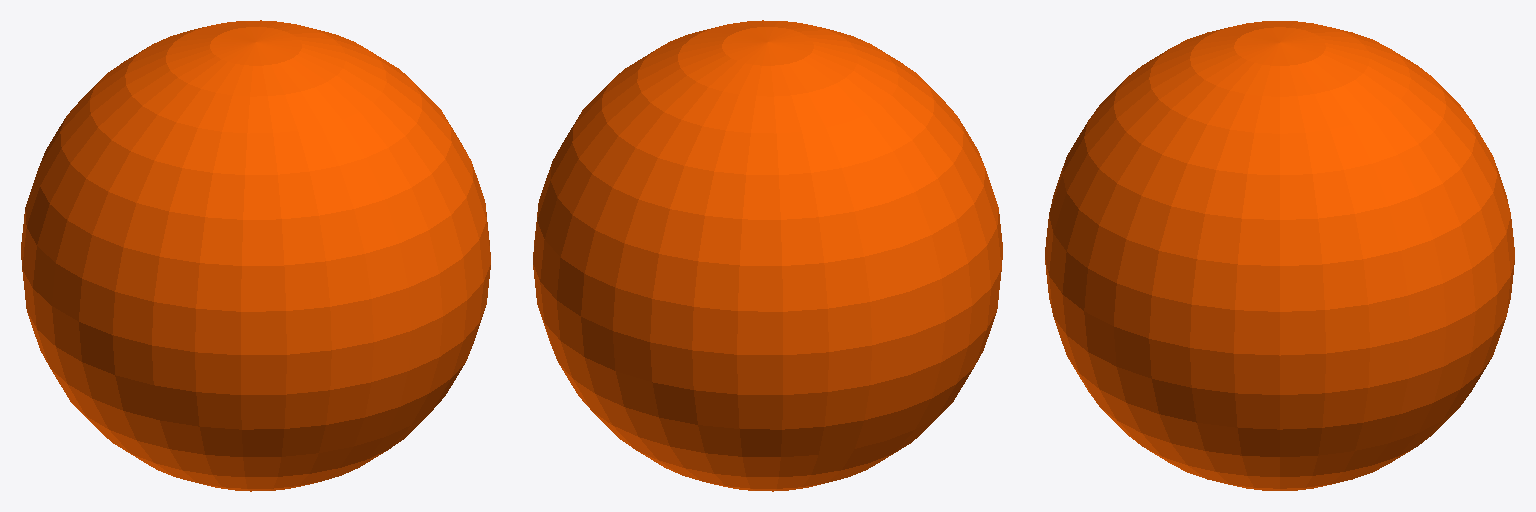
The robot description file, URDF, robot "ballbot":
<?xml version="1.0" ?>
<!-- =================================================================================== -->
<!-- |    This document was autogenerated by xacro from ballbot_body.urdf.xacro        | -->
<!-- |    EDITING THIS FILE BY HAND IS NOT RECOMMENDED                                 | -->
<!-- =================================================================================== -->
<robot name="ballbot" xmlns:xacro="http://ros.org/wiki/xacro">
  <material name="black">
    <color rgba="0.0 0.0 0.0 1.0"/>
  </material>
  <material name="blue">
    <color rgba="0.0 0.0 0.8 1.0"/>
  </material>
  <material name="green">
    <color rgba="0.0 0.8 0.0 1.0"/>
  </material>
  <material name="grey">
    <color rgba="0.5 0.5 0.5 1.0"/>
  </material>
  <material name="orange">
    <color rgba="1.0 0.423529411765 0.0392156862745 1.0"/>
  </material>
  <material name="brown">
    <color rgba="0.870588235294 0.811764705882 0.764705882353 1.0"/>
  </material>
  <material name="white">
    <color rgba="1.0 1.0 1.0 1.0"/>
  </material>
  <material name="yellow">
    <color rgba="0.8 0.68 0 1"/>
  </material>
  <material name="red">
    <color rgba="1.0 0.0 0.0 1"/>
  </material>
  <material name="aluminum">
    <color rgba="0.5 0.5 0.5 1"/>
  </material>
  <!-- ros_control plugin -->
  <gazebo>
    <plugin filename="libgazebo_ros_control.so" name="gazebo_ros_control">
      <robotNamespace>/ballbot</robotNamespace>
      <robotSimType>gazebo_ros_control/DefaultRobotHWSim</robotSimType>
      <legacyModeNS>true</legacyModeNS>
    </plugin>
  </gazebo>
  <gazebo reference="BallbotBase">
    <material>Gazebo/Orange</material>
    <selfCollide>false</selfCollide>
    <static>true</static>
  </gazebo>
  <gazebo reference="Link_FakeBall">
    <material>Gazebo/Orange</material>
    <selfCollide>false</selfCollide>
    <static>true</static>
  </gazebo>
  <gazebo reference="Link_Ball">
    <material>Gazebo/Orange</material>
    <self_collide>false</self_collide>
    <static>true</static>
  </gazebo>
  <gazebo reference="Link_FakeBody">
    <material>Gazebo/Orange</material>
    <selfCollide>false</selfCollide>
    <static>true</static>
  </gazebo>
  <gazebo reference="Link_Body">
    <material>Gazebo/Yellow</material>
    <self_collide>false</self_collide>
    <static>true</static>
  </gazebo>
  <!-- Right Arm Transmissions -->
  <transmission name="RArmTran1">
    <type>transmission_interface/SimpleTransmission</type>
    <joint name="JRA1">
      <hardwareInterface>hardware_interface/EffortJointInterface</hardwareInterface>
    </joint>
    <actuator name="RArmMotor1">
      <hardwareInterface>hardware_interface/EffortJointInterface</hardwareInterface>
      <mechanicalReduction>1</mechanicalReduction>
    </actuator>
  </transmission>
  <transmission name="RArmTran2">
    <type>transmission_interface/SimpleTransmission</type>
    <joint name="JRA2">
      <hardwareInterface>hardware_interface/EffortJointInterface</hardwareInterface>
    </joint>
    <actuator name="RArmMotor2">
      <hardwareInterface>hardware_interface/EffortJointInterface</hardwareInterface>
      <mechanicalReduction>1</mechanicalReduction>
    </actuator>
  </transmission>
  <transmission name="RArmTran3">
    <type>transmission_interface/SimpleTransmission</type>
    <joint name="JRA3">
      <hardwareInterface>hardware_interface/EffortJointInterface</hardwareInterface>
    </joint>
    <actuator name="RArmMotor3">
      <hardwareInterface>hardware_interface/EffortJointInterface</hardwareInterface>
      <mechanicalReduction>1</mechanicalReduction>
    </actuator>
  </transmission>
  <transmission name="RArmTran4">
    <type>transmission_interface/SimpleTransmission</type>
    <joint name="JRA4">
      <hardwareInterface>hardware_interface/EffortJointInterface</hardwareInterface>
    </joint>
    <actuator name="RArmMotor4">
      <hardwareInterface>hardware_interface/EffortJointInterface</hardwareInterface>
      <mechanicalReduction>1</mechanicalReduction>
    </actuator>
  </transmission>
  <transmission name="RArmTran5">
    <type>transmission_interface/SimpleTransmission</type>
    <joint name="JRA5">
      <hardwareInterface>hardware_interface/EffortJointInterface</hardwareInterface>
    </joint>
    <actuator name="RArmMotor5">
      <hardwareInterface>hardware_interface/EffortJointInterface</hardwareInterface>
      <mechanicalReduction>1</mechanicalReduction>
    </actuator>
  </transmission>
  <transmission name="RArmTran6">
    <type>transmission_interface/SimpleTransmission</type>
    <joint name="JRA6">
      <hardwareInterface>hardware_interface/EffortJointInterface</hardwareInterface>
    </joint>
    <actuator name="RArmMotor6">
      <hardwareInterface>hardware_interface/EffortJointInterface</hardwareInterface>
      <mechanicalReduction>1</mechanicalReduction>
    </actuator>
  </transmission>
  <transmission name="RArmTran7">
    <type>transmission_interface/SimpleTransmission</type>
    <joint name="JRA7">
      <hardwareInterface>hardware_interface/EffortJointInterface</hardwareInterface>
    </joint>
    <actuator name="RArmMotor7">
      <hardwareInterface>hardware_interface/EffortJointInterface</hardwareInterface>
      <mechanicalReduction>1</mechanicalReduction>
    </actuator>
  </transmission>
  <!--<gazebo reference="">
    <material>Gazebo/Yellow</material>
  </gazebo>

  - Right Arm 
  <gazebo reference="Link_FakeBall">
    <mu1>0.2</mu1>
    <mu2>0.2</mu1>
    <material>Gazebo/Orange</material>
  </gazebo>

  <gazebo reference="Link_Ball">
    <mu1>0.2</mu1>
    <mu2>0.2</mu1>
    <material>Gazebo/Orange</material>
  </gazebo>

  <gazebo reference="Link_FakeBody">
    <mu1>0.2</mu1>
    <mu2>0.2</mu1>
    <material>Gazebo/Orange</material>
  </gazebo>

  <gazebo reference="Link_Body">
    <mu1>0.2</mu1>
    <mu2>0.2</mu1>
    <material>Gazebo/Orange</material>
  </gazebo>

  <gazebo reference="LArm0">
    <mu1>0.2</mu1>
    <mu2>0.2</mu1>
    <material>Gazebo/Orange</material>
  </gazebo>

  <gazebo reference="LArm1">
    <mu1>0.2</mu1>
    <mu2>0.2</mu1>
    <material>Gazebo/Orange</material>
  </gazebo>

  <gazebo reference="LArm2">
    <mu1>0.2</mu1>
    <mu2>0.2</mu1>
    <material>Gazebo/Orange</material>
  </gazebo>

  <gazebo reference="LArm3">
    <mu1>0.2</mu1>
    <mu2>0.2</mu1>
    <material>Gazebo/Orange</material>
  </gazebo>

  <gazebo reference="LArm4">
    <mu1>0.2</mu1>
    <mu2>0.2</mu1>
    <material>Gazebo/Orange</material>
  </gazebo>-->
  &quot;

  
  <!-- Use of macros to assemble the robot -->
  <!-- Used for fixing robot to Gazebo 'base_link' -->
  <link name="world"/>
  <joint name="fixed" type="fixed">
    <origin rpy="0.0 0.0 0.0" xyz="0.0 0.0 0.105838"/>
    <parent link="world"/>
    <child link="Link_Ball"/>
  </joint>
  <!--<link name="BallbotBase">
        <inertial>
            <origin xyz="0.00000 0.00000 0.00000"/>
            <mass value="0.000001"/>
            <inertia ixx="0.00000" iyy="0.00000" izz="0.00000" ixy="-0.00000" ixz="-0.00000" iyz="-0.00000"/>
        </inertial>
    </link>
    <link name="Link_FakeBall">
        <inertial>
            <origin xyz="0.00000 0.00000 0.00000"/>
            <mass value="0.000001"/>
            <inertia ixx="0.00000" iyy="0.00000" izz="0.00000" ixy="-0.00000" ixz="-0.00000" iyz="-0.00000"/>
        </inertial>
    </link>-->
  <link name="Link_Ball">
    <inertial>
      <origin xyz="0.00000 0.00000 0.00000"/>
      <mass value="2.72"/>
      <inertia ixx="0.01220" ixy="-0.00000" ixz="-0.00000" iyy="0.01220" iyz="-0.00000" izz="0.01220"/>
    </inertial>
    <visual>
      <origin rpy="0.0 0.0 0.0" xyz="0.0 0.0 0.0"/>
      <geometry>
        <sphere radius="0.105838"/>
      </geometry>
      <material name="orange"/>
    </visual>
  </link>
  <!--<link name="Link_FakeBody">
        <inertial>
            <origin xyz="0.00000 0.00000 0.00000"/>
            <mass value="0.00001"/>
            <inertia ixx="0.00000" iyy="0.00000" izz="0.00000" ixy="-0.00000" ixz="-0.00000" iyz="-0.00000"/>
        </inertial>
    </link>-->
  <link name="Link_Body">
    <inertial>
      <origin xyz="0.0000 0.00000 0.762"/>
      <mass value="64.86"/>
      <inertia ixx="10.61648" ixy="0.00000" ixz="0.00000" iyy="10.61648" iyz="0.00000" izz="0.66440"/>
    </inertial>
    <visual>
      <!--<origin xyz="${-BODY_HEIGHT/2} 0.0 0.0" rpy="0.0 -1.57079632679 0.0"/>-->
      <origin rpy="0 0 0" xyz="0 0 0"/>
      <geometry>
        <mesh filename="package://ballbot_arm_description/meshes/v2020/ballbot_body_v2020.stl"/>
      </geometry>
      <material name="yellow"/>
    </visual>
    <collision>
      <origin rpy="0 -1.57079632679 0" xyz="0 0 0.7025"/>
      <geometry>
        <cylinder length="1.405" radius="0.184"/>
      </geometry>
    </collision>
  </link>
  <!--<joint name="Joint1" type="fixed">
        <origin xyz="0.00000 0.00000 ${BALL_RADIUS}" rpy="3.141592653589793 1.570796282091413 3.141592653589793"/>
        <parent link="BallbotBase"/>
        <child  link="Link_FakeBall"/>
        <limit lower="-5" upper="5" effort="30" velocity="1.0"/>
        <axis xyz="0 0 1"/>
    </joint>
    <joint name="Joint2" type="fixed">
        <origin xyz="0.00000 0.00000 0.00000" rpy="-1.5707963705062866 0.0 -0.0"/>
        <parent link="Link_FakeBall"/>
        <child  link="Link_Ball"/>
        <limit lower="-5" upper="5" effort="30" velocity="1.0"/>
        <axis xyz="0 0 1"/>
    </joint>
    <joint name="Joint3" type="fixed">
        <origin xyz="0.00000 0.00000 0.00000" rpy="0.0 0.0 0.0"/>
        <parent link="Link_Ball"/>
        <child  link="Link_FakeBody"/>
        <limit lower="-${20*DEG2RAD*PI}" upper="${20*DEG2RAD*PI}" effort="30" velocity="1.0"/>
        <axis xyz="0 0 1"/>
    </joint>-->
  <joint name="Joint4" type="revolute">
    <origin rpy="0.0 0.0 0.0" xyz="0.00000 0.00000 0.00000"/>
    <parent link="Link_Ball"/>
    <child link="Link_Body"/>
    <limit effort="30" lower="-0.349065850399" upper="1.09662271123" velocity="1.0"/>
    <axis xyz="0 0 1"/>
  </joint>
</robot>

--- Facts derived from the render (not from the file) ---
Views: 3 orthographic renders of the robot side by side, from view 1: azimuth 30°, elevation 25°; view 2: azimuth 150°, elevation 25°; view 3: azimuth 270°, elevation 25°.
Robot: ballbot — 3 links, 2 joints (1 revolute, 1 fixed); root link world; default pose: all joints at 0.
Visible links, largest first — view 1: Link_Ball; view 2: Link_Ball; view 3: Link_Ball.
Link boxes in pixels (bbox=[...]): Link_Ball: bbox=[21, 20, 490, 491]; Link_Ball: bbox=[533, 20, 1002, 491]; Link_Ball: bbox=[1045, 21, 1514, 490].
Size in the robot's own frame: 0.2117 by 0.2117 by 0.2117 metres.
Meshes: 1 distinct files referenced, 0 mesh visuals loaded (none loaded); not drawn: 1 (reference not matched to a file when rendering).